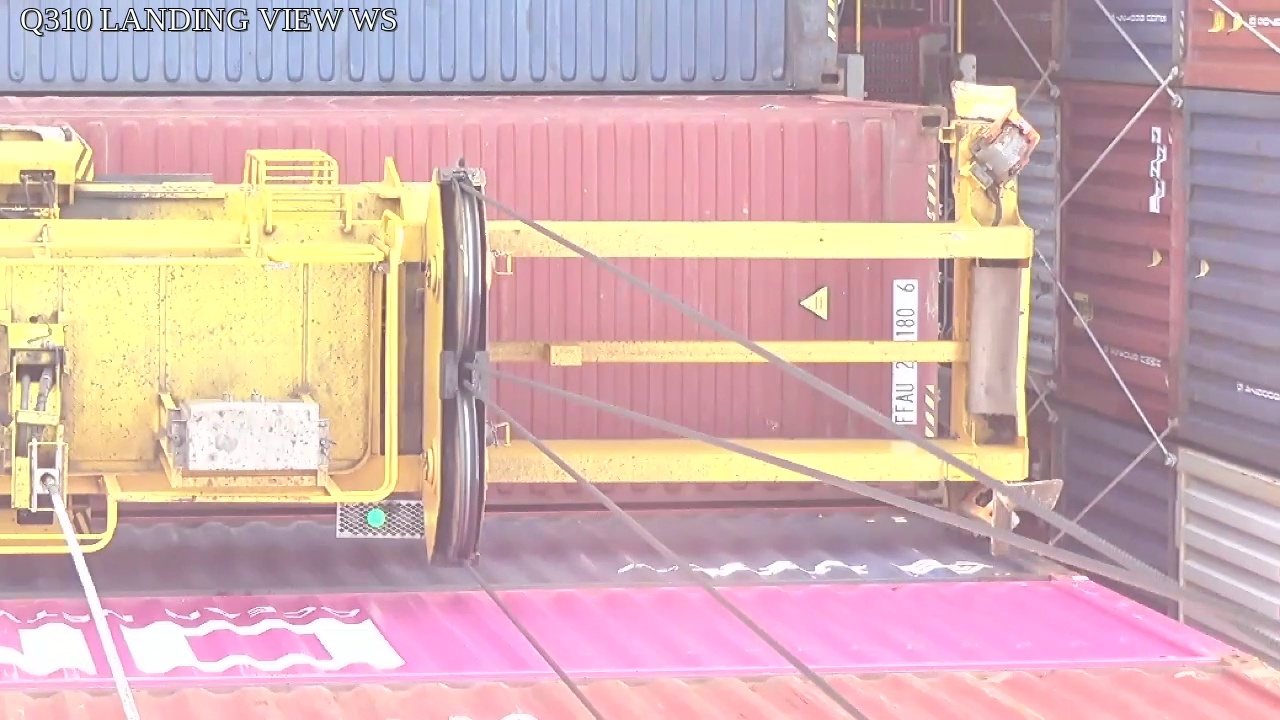right: (422, 164, 487, 568)
